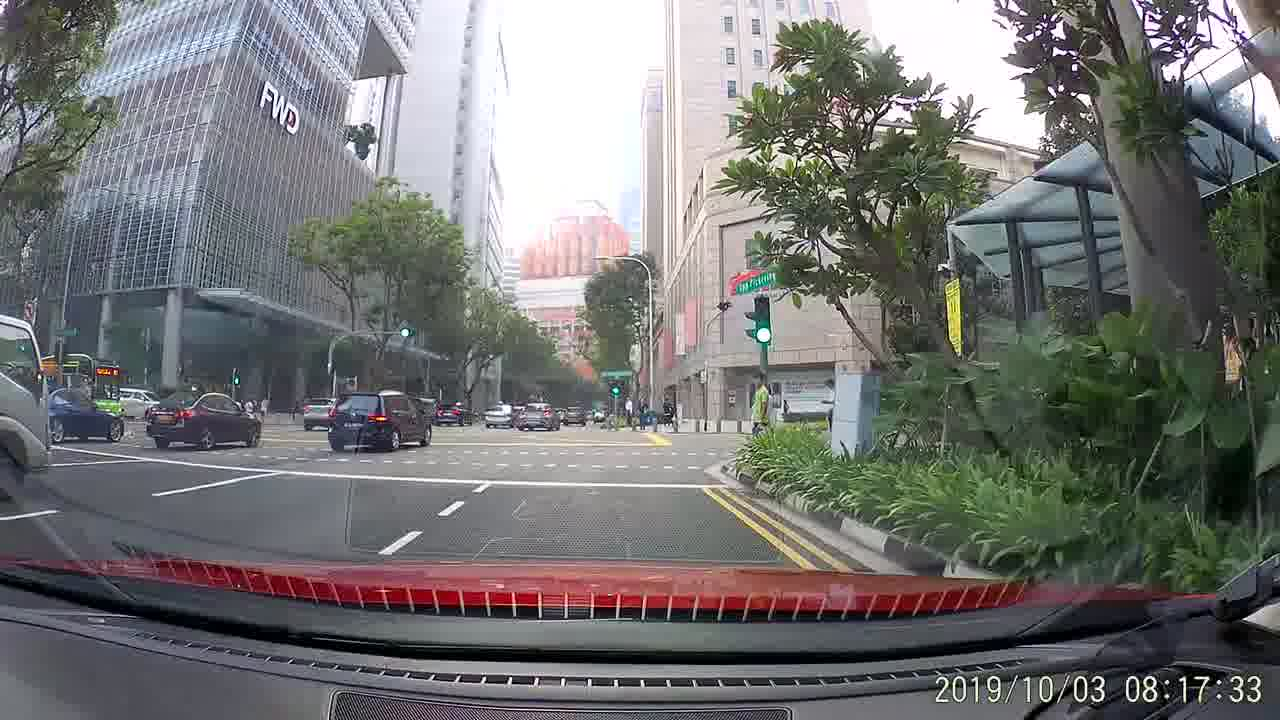bus: (45, 352, 125, 411)
car: (149, 386, 262, 451), (328, 389, 434, 453), (45, 385, 124, 443), (117, 385, 158, 423), (302, 393, 338, 434), (518, 402, 558, 430), (430, 401, 470, 426), (482, 401, 515, 427), (561, 401, 587, 426)
